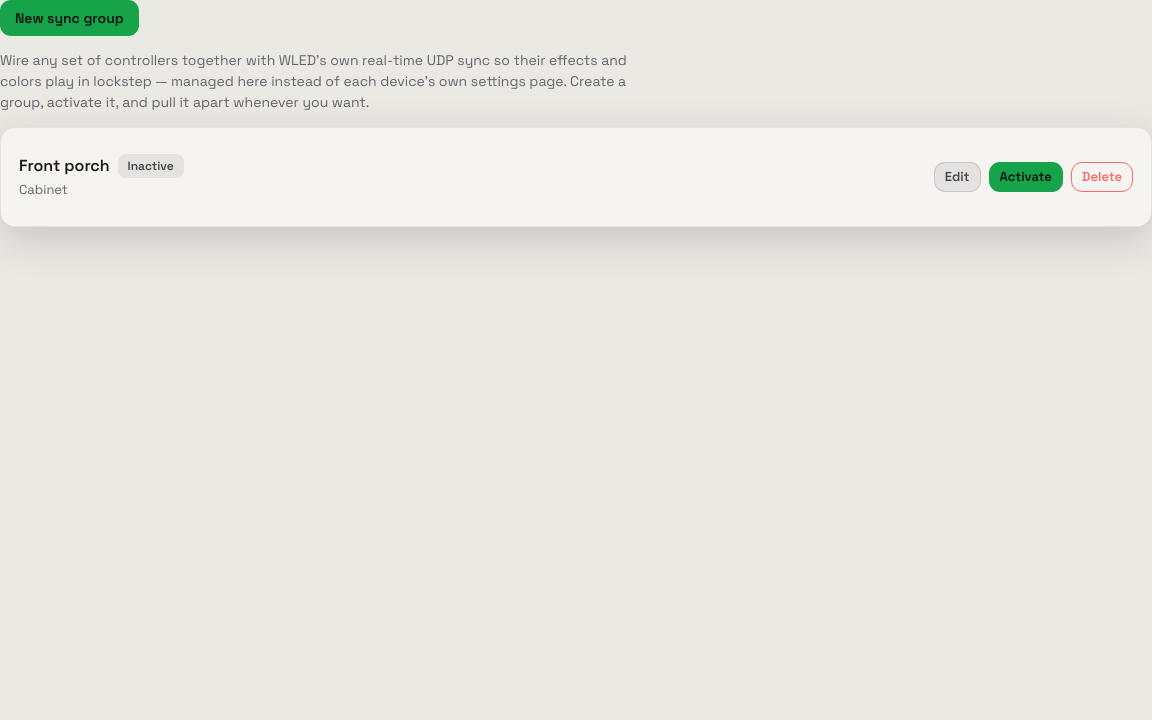
Test: SyncSection › deletes a group after confirming
The width and height of the screenshot is (1152, 720).
expect the text "Front porch" is shown: met, box [19,154,110,178]
Step 1. Click the button with aria-label "Delete Front porch" → click(1102, 177), box [1071,162,1133,192]
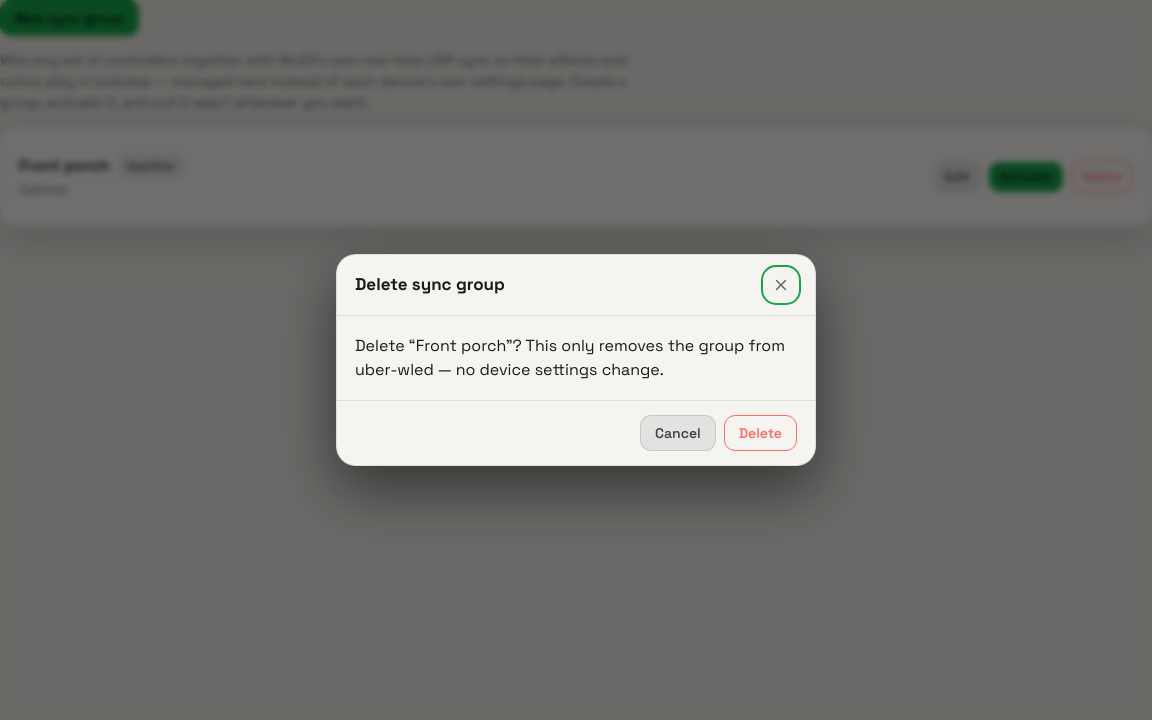
Step 2. Click the button "Delete" → click(760, 433), box [724,415,797,451]
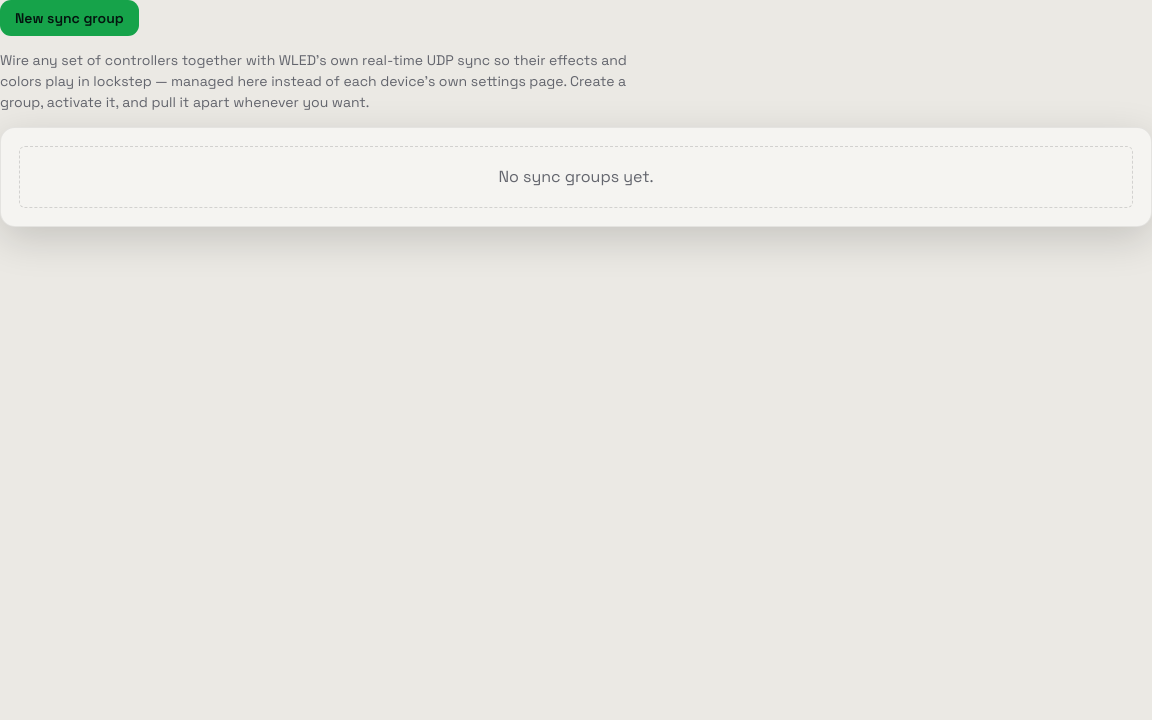
expect the text "No sync groups yet." is shown: met, box [19,146,1133,208]
